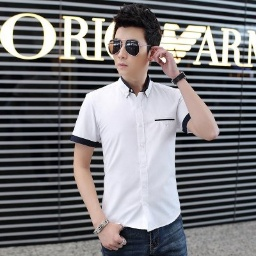face: (109, 4, 163, 75)
